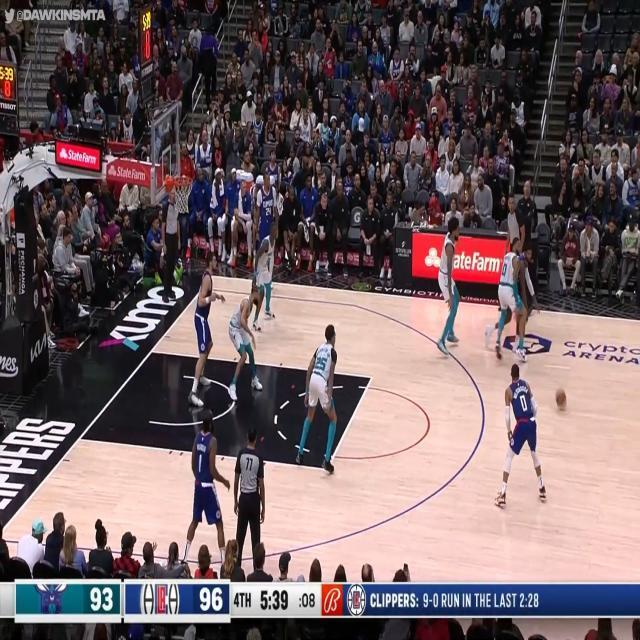Ball: (556, 386, 568, 411)
